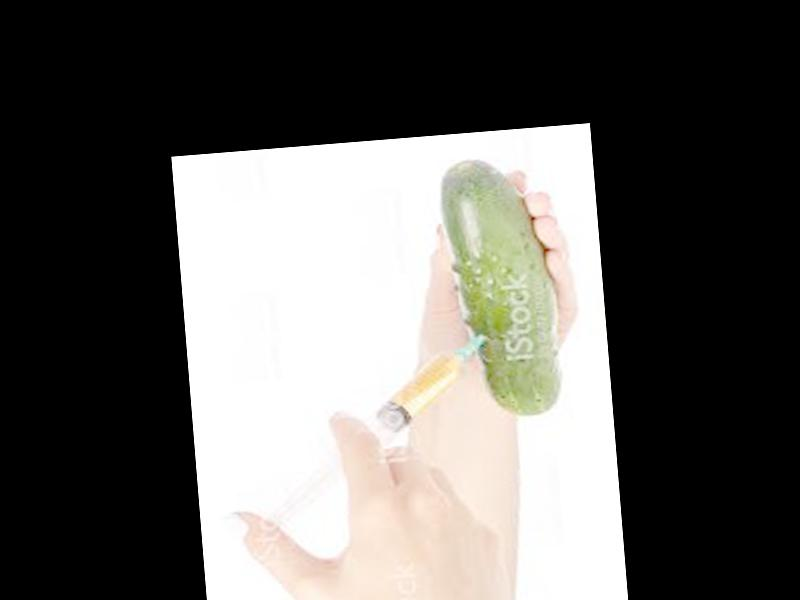Cucumber: (438, 152, 558, 421)
